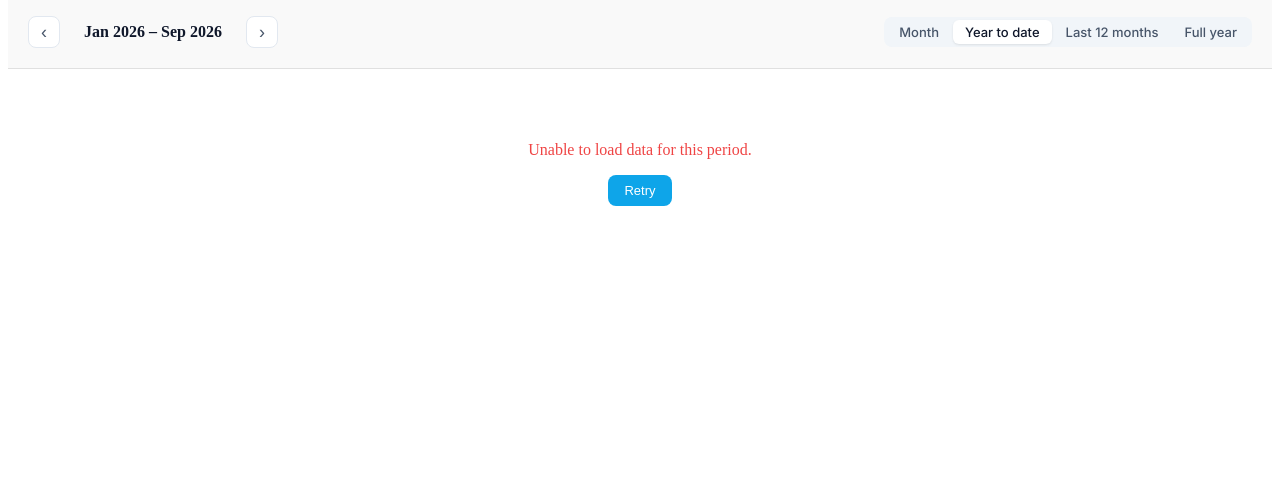
PeriodAnalyticsPanel › shows an error with retry
Expected: the message shows "Unable to load data for this period.", left=528, top=141, right=752, bottom=158
Click the button "Retry".
click(640, 190)  # box left=608, top=175, right=672, bottom=206
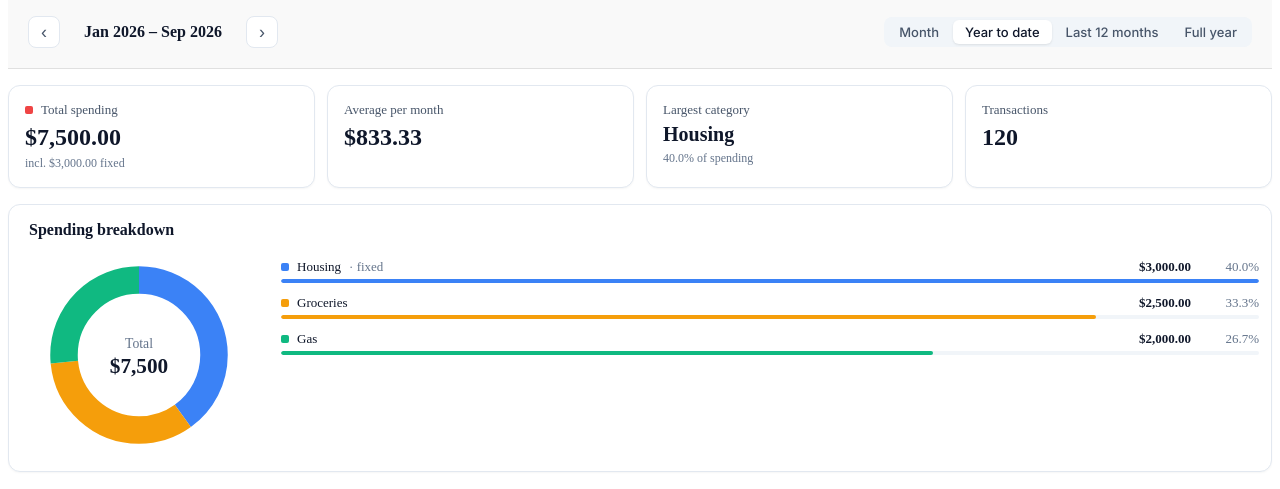
Expected: the element with test id "spending-view" is shown
